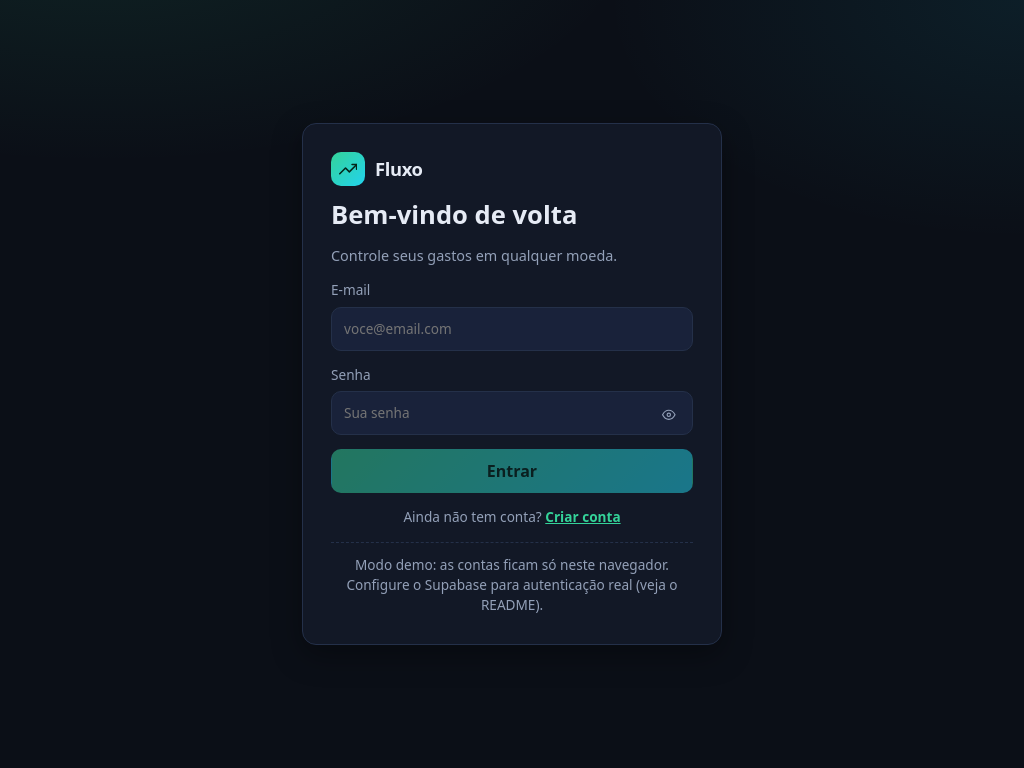
Carteira › adiciona despesas, converte o total e muda a moeda de exibição
Expected: the heading "Bem-vindo de volta" is shown, [331,197,577,232]
Click the button "Criar conta": [583, 518] box [545,507,621,528]
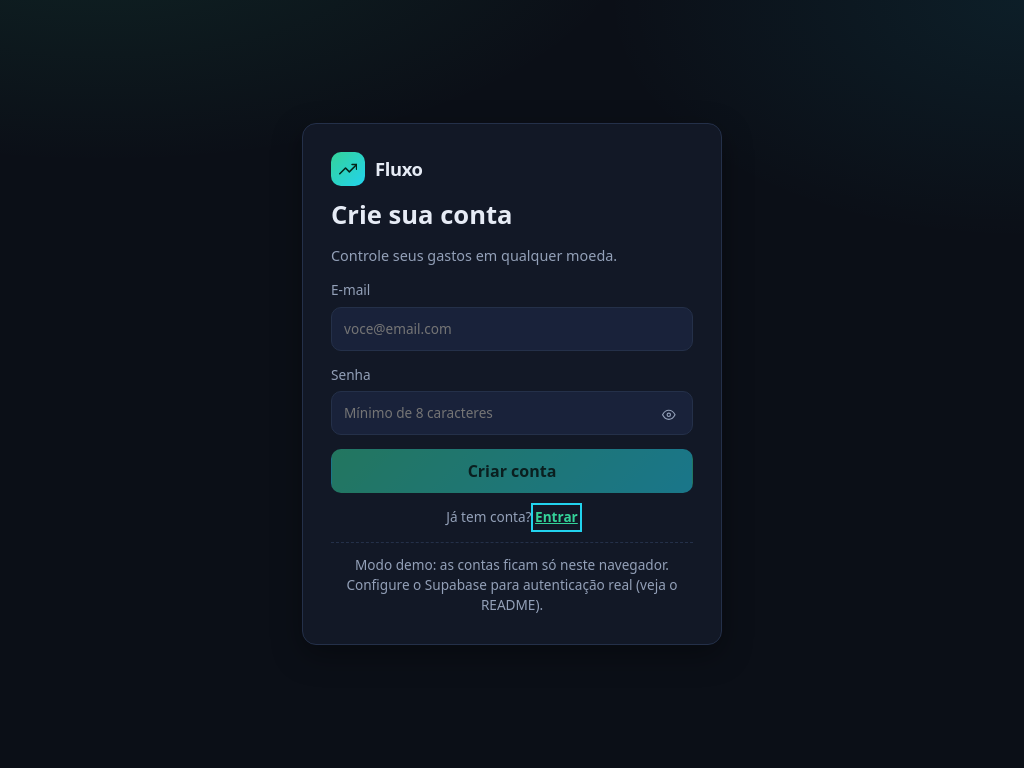
In the field with placeholder "voce@email.com": [512, 329] box [331,307,693,351], type "teste@teste.com"
In the password field with test id "password-input": [512, 413] box [331,391,693,435], type "12345678"
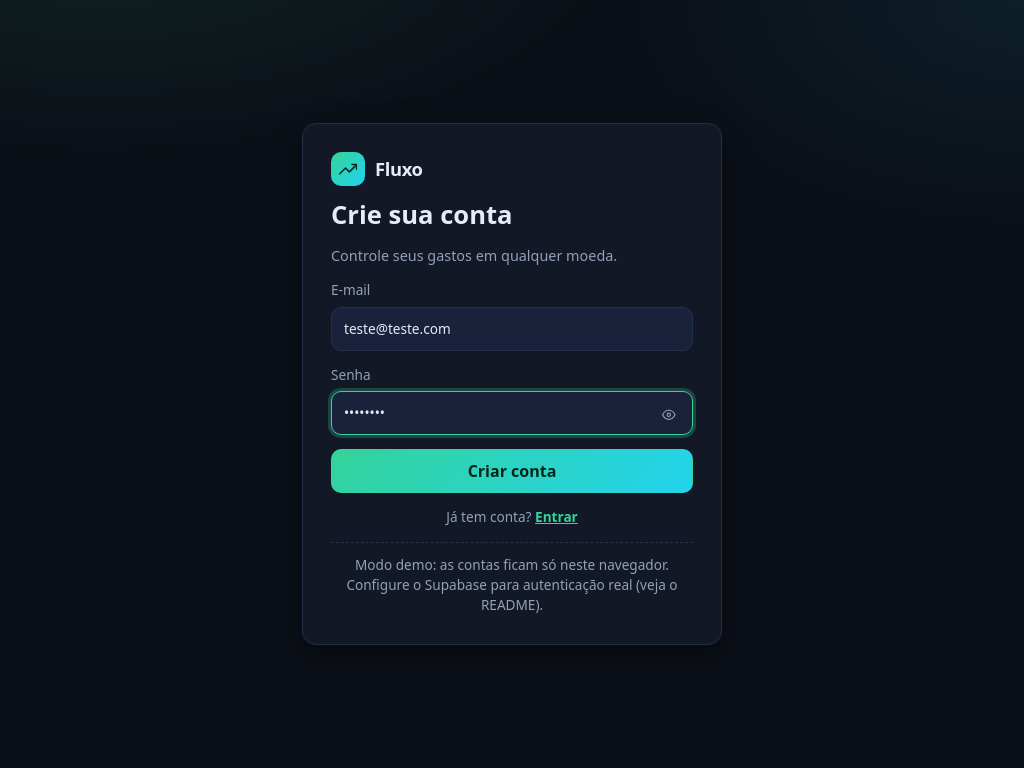
Click the button "Criar conta": [512, 471] box [331,449,693,493]
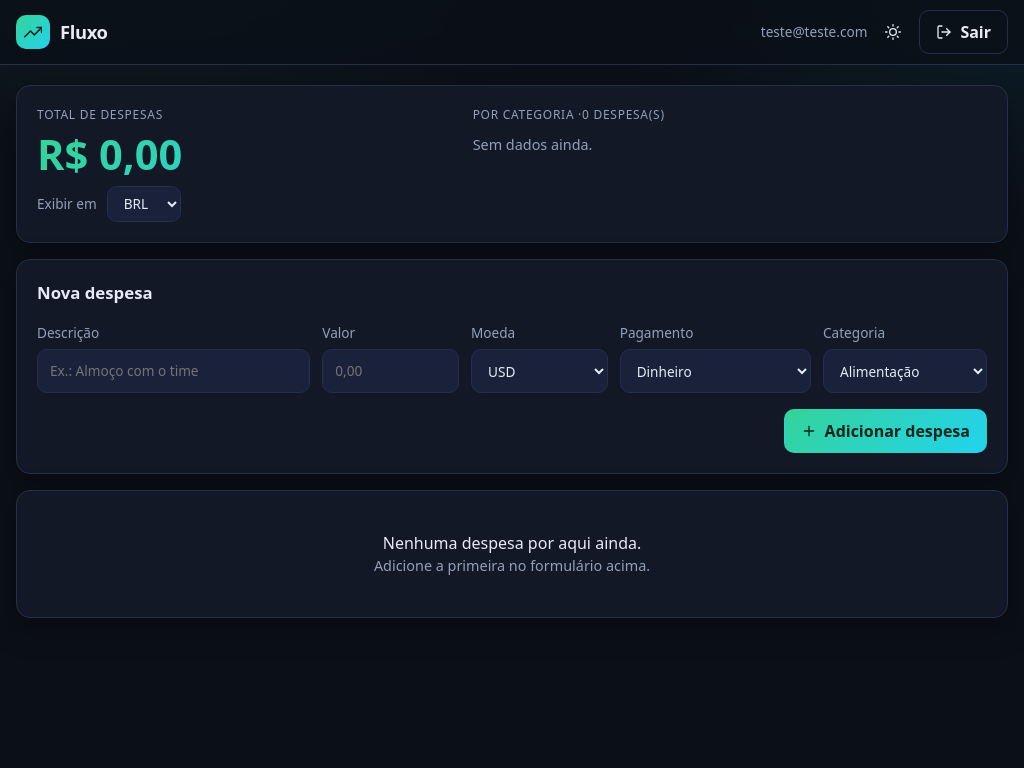
Expected: the text "R$ 0,00" is shown, [37,132,433,178]
Expected: the text with test id "total-field" shows "0,00", [37,126,182,182]
In the number field with test id "value-input": [391, 371] box [322,349,459,393], type "10"
In the field with test id "description-input": [174, 371] box [37,349,310,393], type "Almoço"
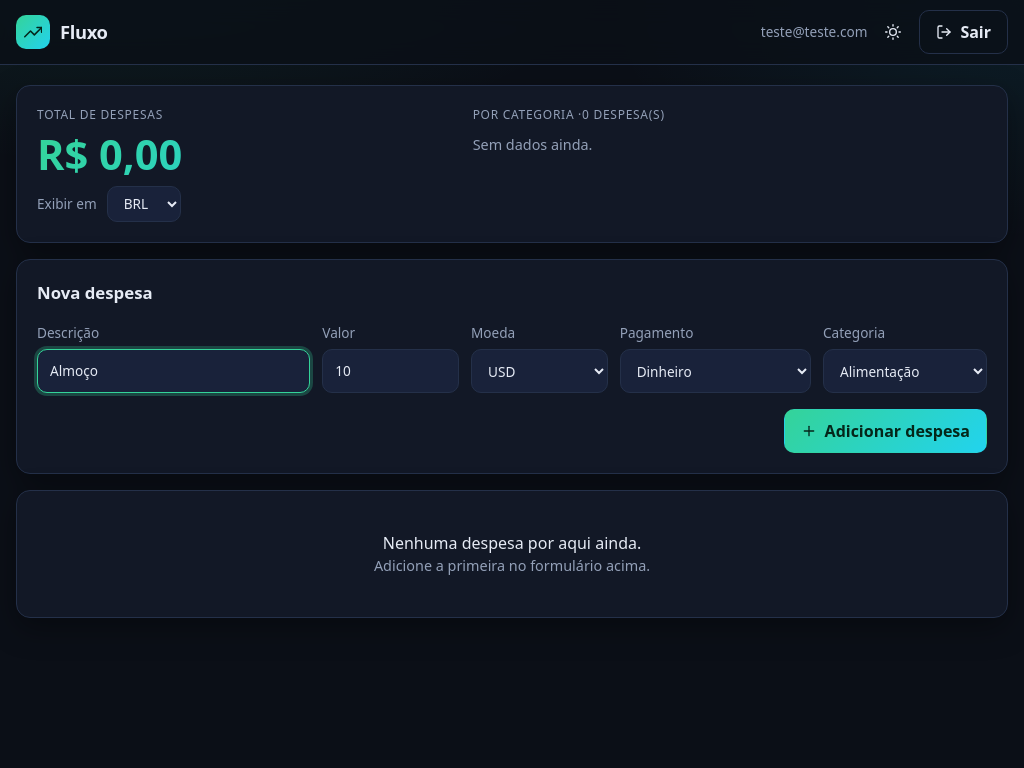
Click the button "Adicionar despesa": [885, 431] box [784,409,987,453]
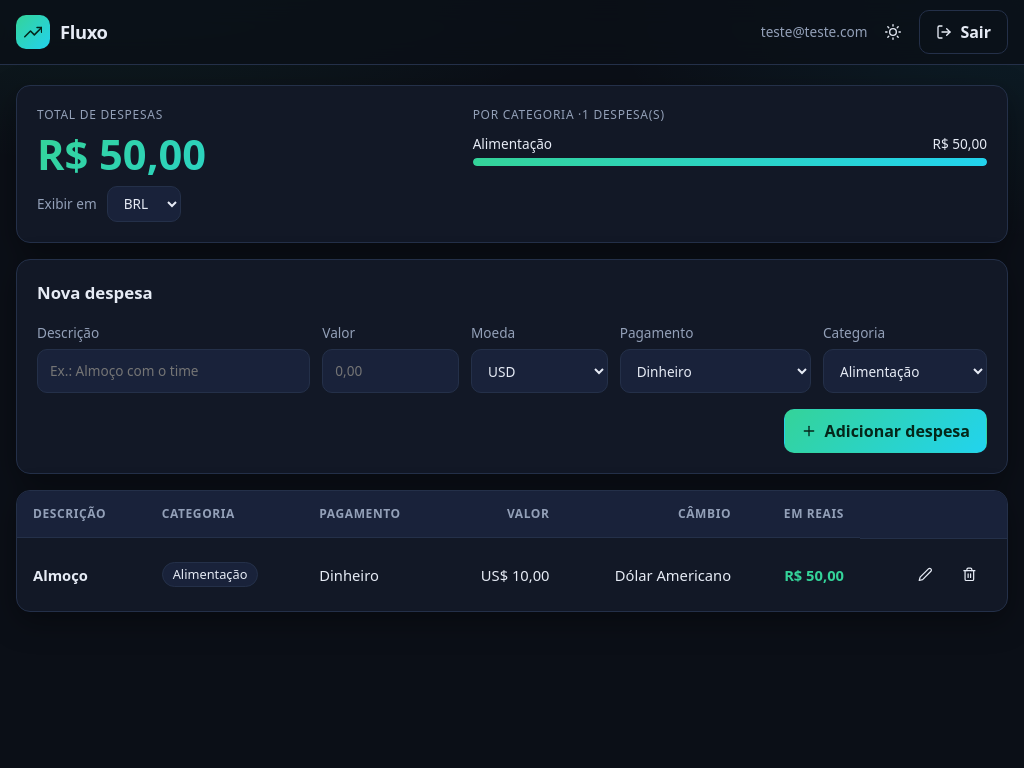
Expected: the text "Almoço" is shown, [17,538,146,611]
Expected: the text with test id "total-field" reads "R$ 50,00", [37,126,206,182]
Select "EUR" in the dropdown with test id "header-currency-field": [144, 204] box [107,186,181,222]
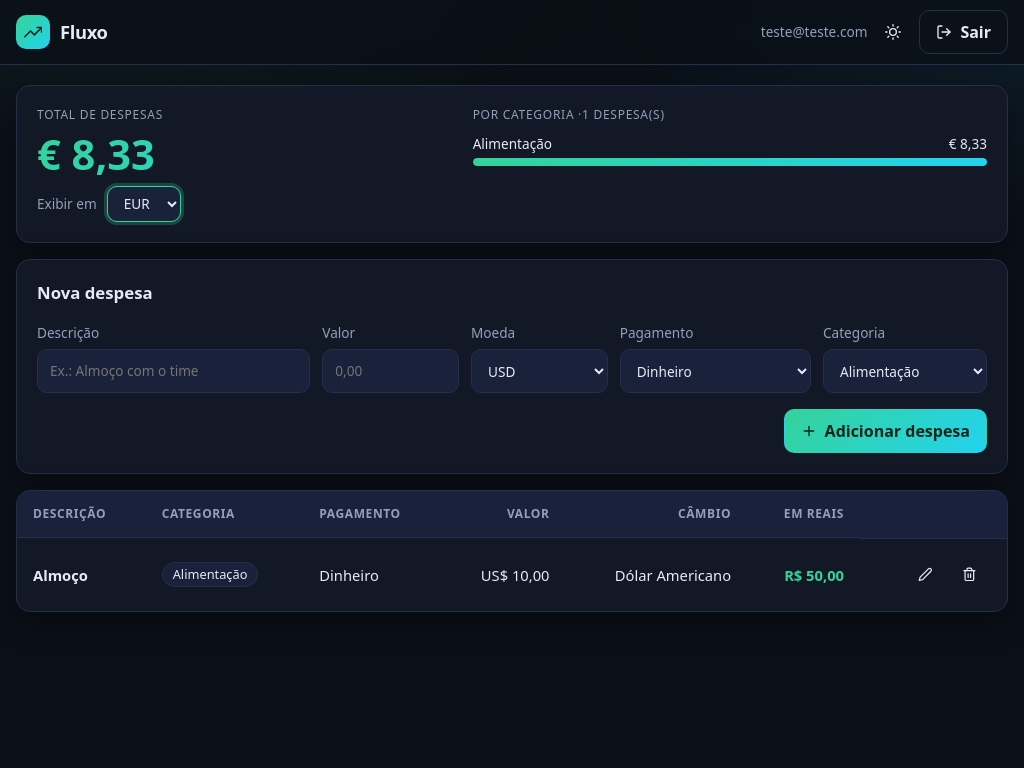
Expected: the text with test id "total-field" reads "€ 8,33", [37,126,155,182]
